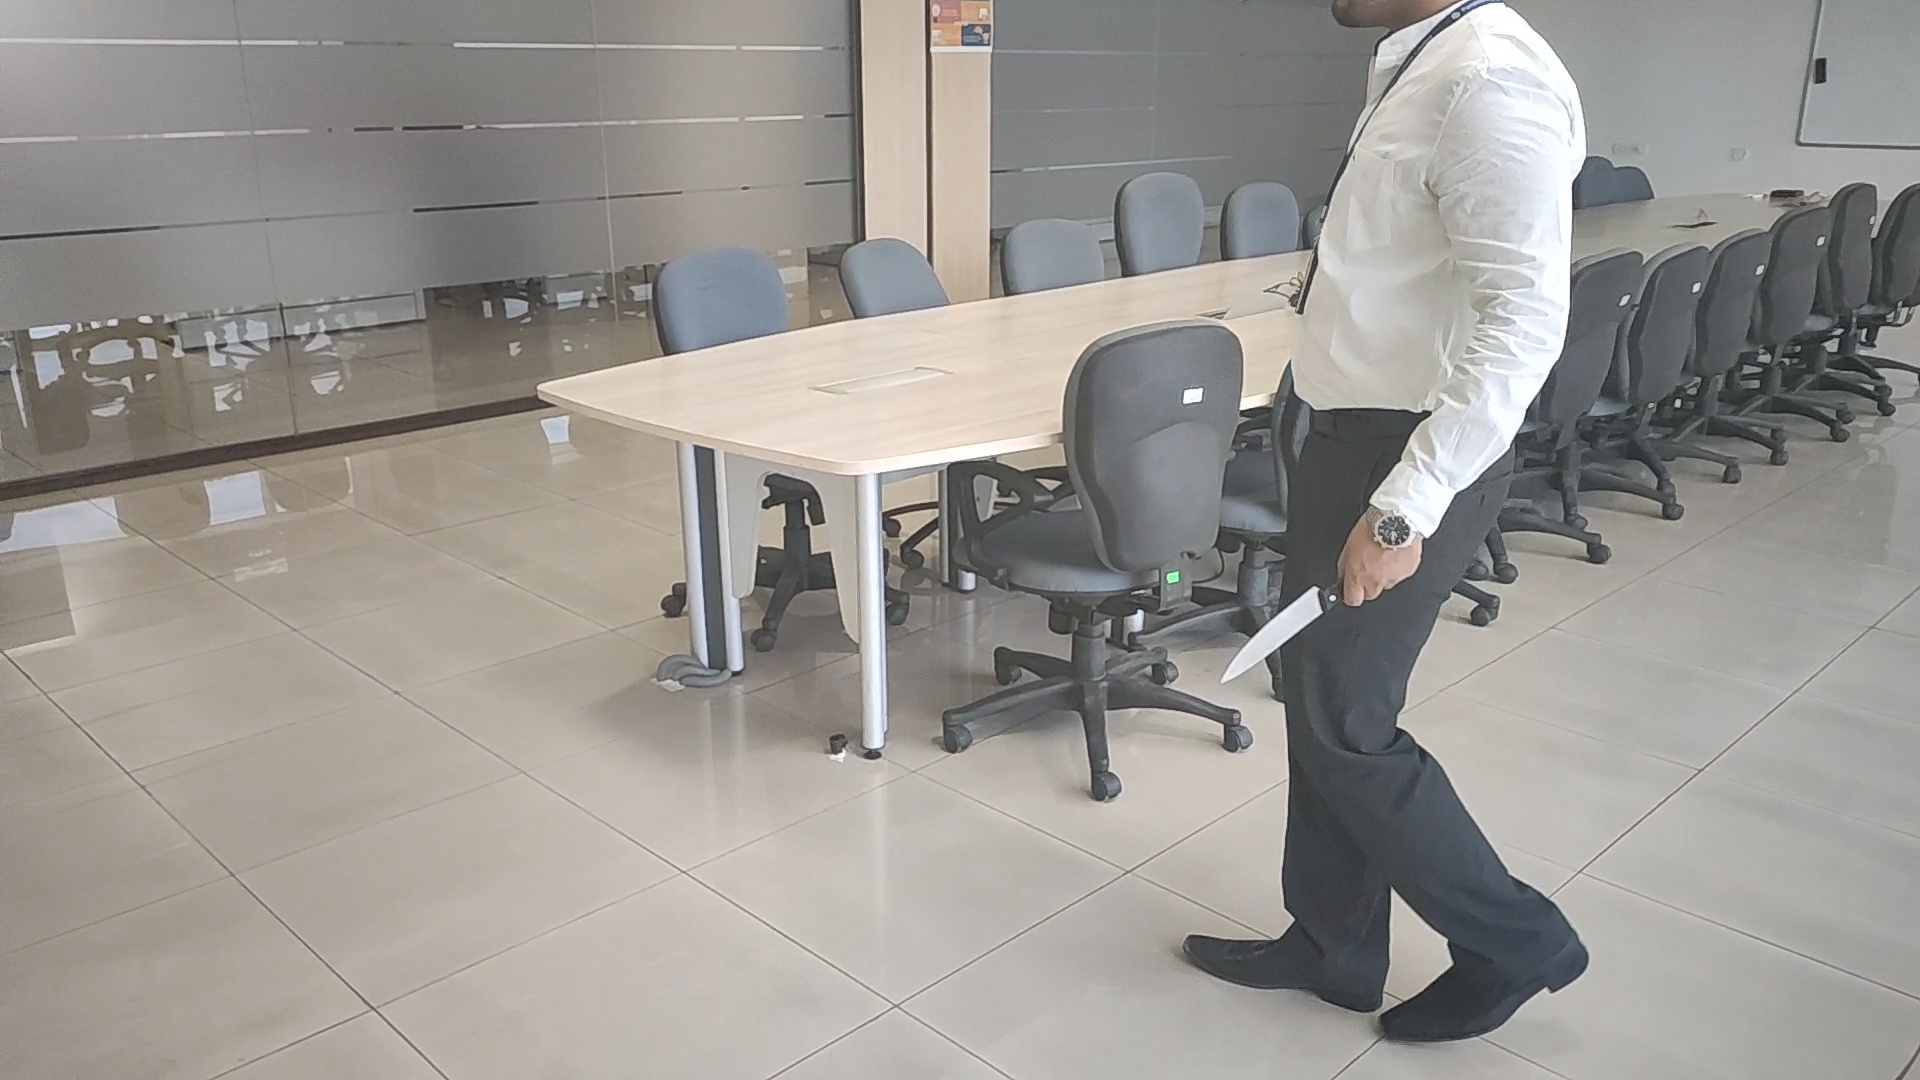knife: (1217, 574, 1342, 688)
